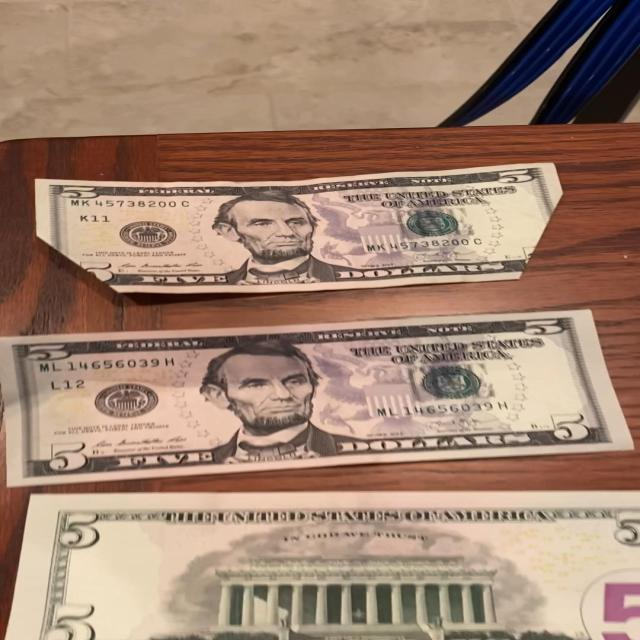5-Back: (2, 494, 640, 640)
5-Front: (0, 308, 639, 487), (33, 160, 563, 296)
